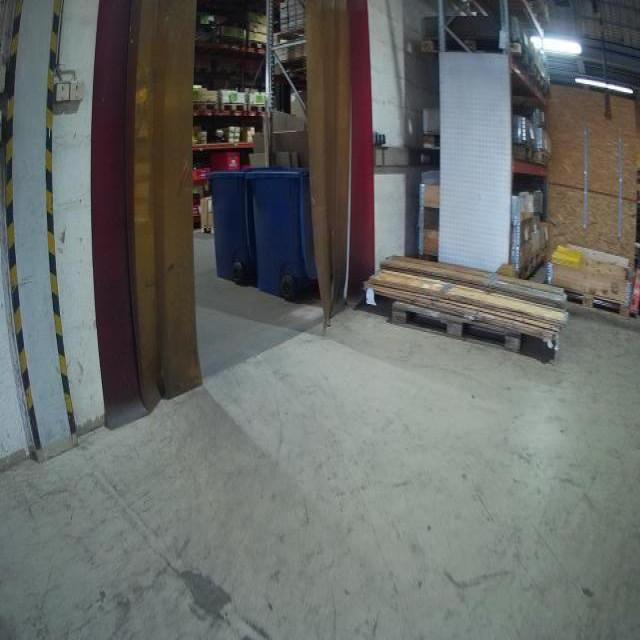pallet: (390, 298, 527, 355), (567, 290, 629, 323), (275, 53, 308, 77), (190, 100, 218, 114), (220, 102, 248, 114), (247, 39, 268, 51), (248, 103, 266, 115)
pallet_truck: (627, 257, 639, 325)
